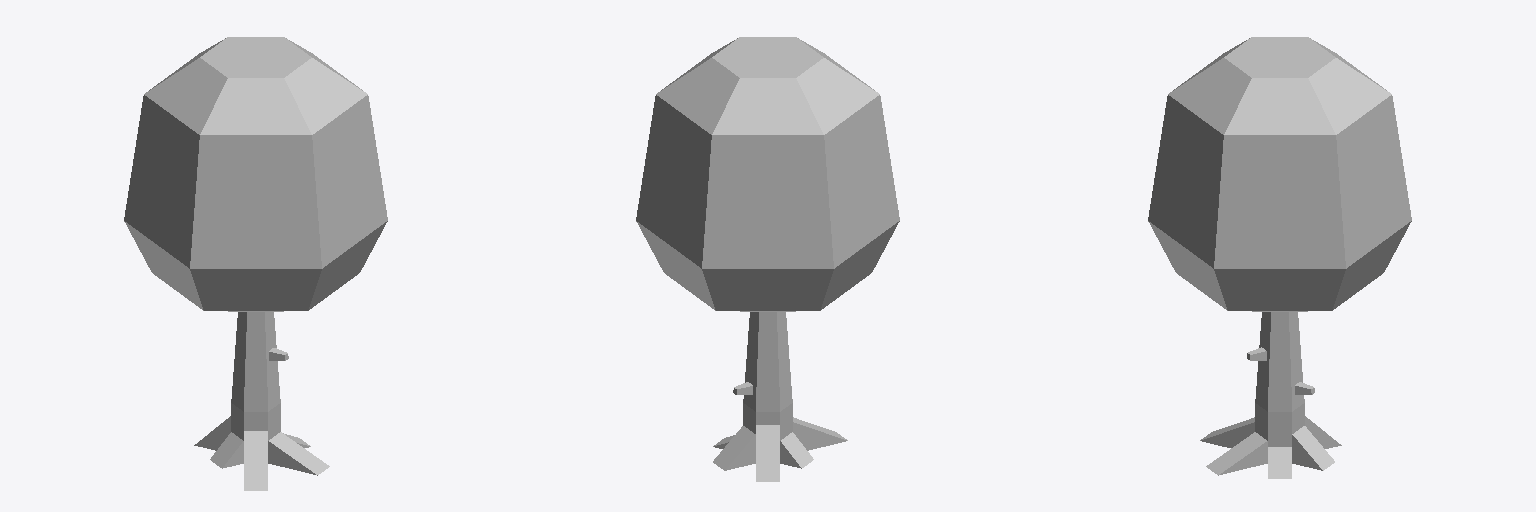
Rendered from tree_oak.obj.
3 views of the same model, side by side, from view 1: azimuth 30°, elevation 25°; view 2: azimuth 150°, elevation 25°; view 3: azimuth 270°, elevation 25° (orthographic).
Parts seen in each view (by area): view 1: tree_oak; view 2: tree_oak; view 3: tree_oak.
Boxes of the visible parts, x1,y1,x2,y2 form: tree_oak: [124, 37, 387, 490]; tree_oak: [636, 37, 899, 481]; tree_oak: [1148, 37, 1411, 478].
Bounding box in the file's own units: 6.41 × 12.26 × 7.4.